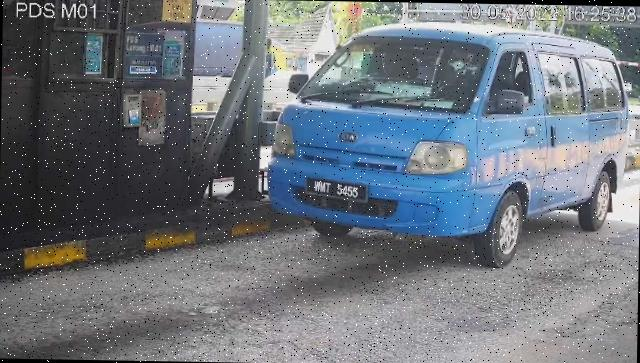License_Plate: (306, 176, 370, 205)
van: (267, 18, 632, 270)
